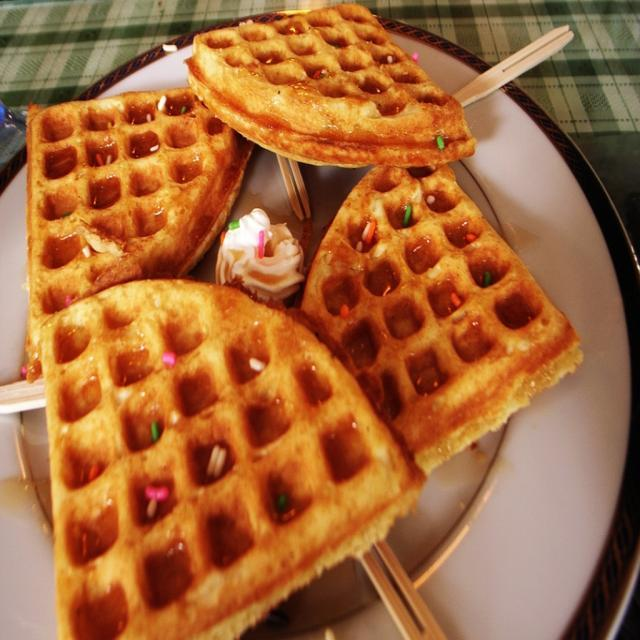Waffle: (53, 278, 423, 640), (296, 167, 586, 478), (22, 96, 256, 386), (184, 0, 474, 170)
